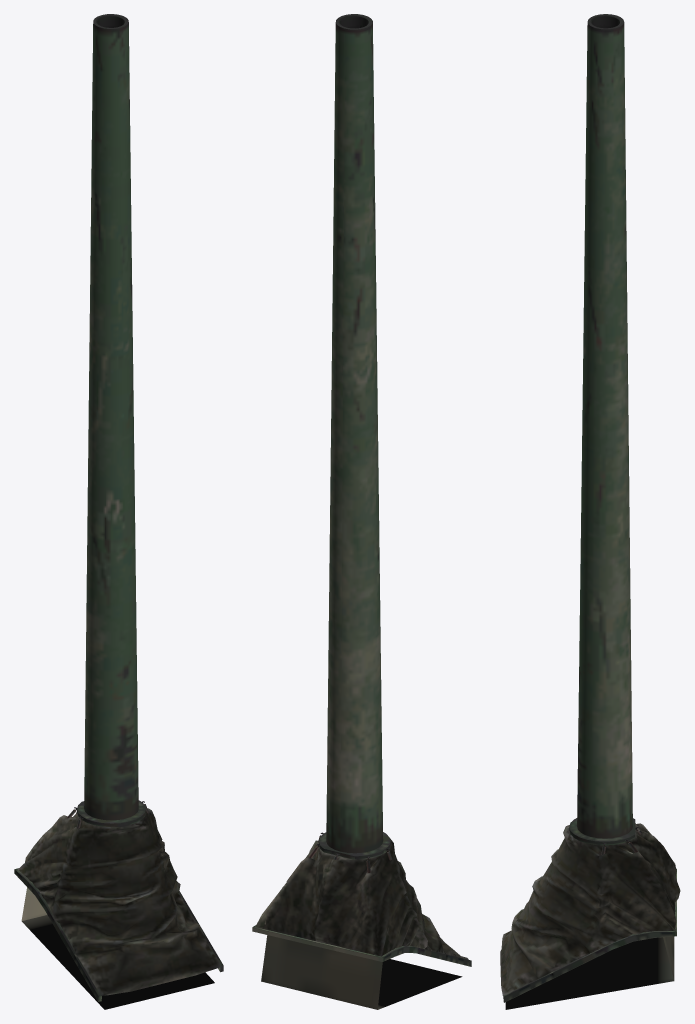
The model's file is Gun_03.glb.
The picture shows the model from 3 angles, left to right: view 1: azimuth 30°, elevation 25°; view 2: azimuth 150°, elevation 25°; view 3: azimuth 270°, elevation 25°; orthographic projection. The views are drawn at different scales.
Parts seen in each view (by area): view 1: set_0_group_0; view 2: set_0_group_0; view 3: set_0_group_0.
Part boxes in pixels (<box>): set_0_group_0: <box>14,14,223,1009</box>; set_0_group_0: <box>252,14,471,1009</box>; set_0_group_0: <box>500,14,680,1009</box>.
Bounding box in the file's own units: 0.4533 × 3.19 × 0.5421.
Materials: 1 (1 with a texture image).
